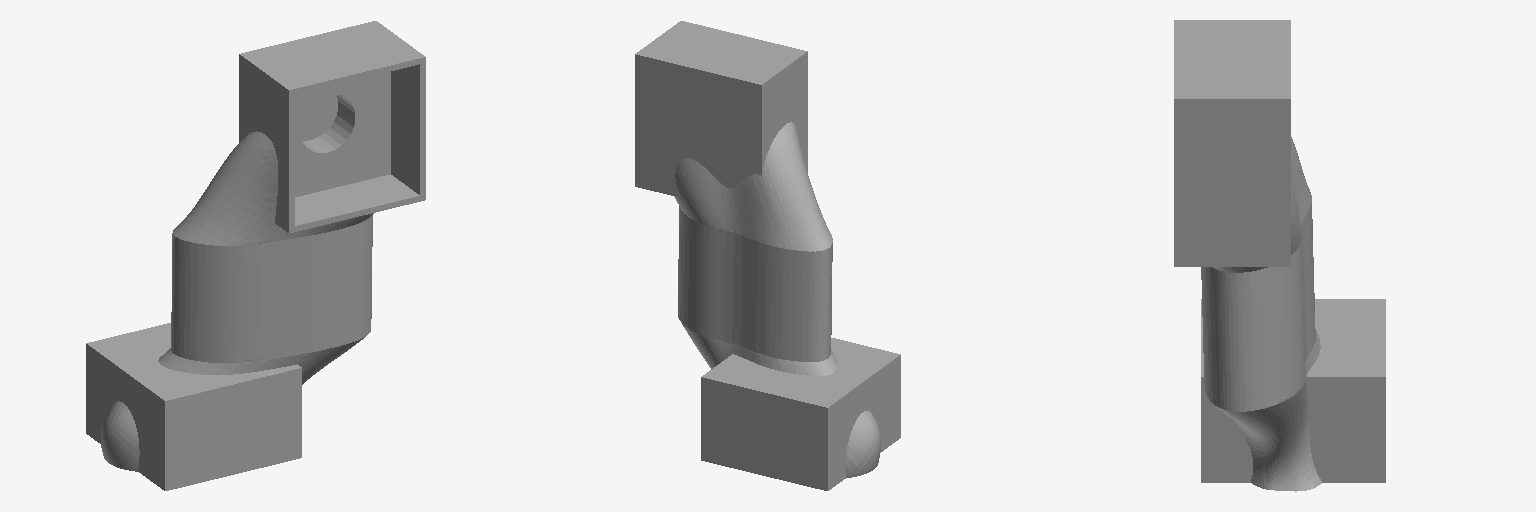
The robot description file, URDF, robot "FrogBot3_top-FrogBot3-x-8_bottom-FrogBot3-x-8":
<?xml version="1.0" ?>
<robot name="FrogBot3_top-FrogBot3-x-8_bottom-FrogBot3-x-8">

<material name="pla_5_percent_infill">
  <color rgba="0.700 0.700 0.700 1.000"/>
</material>

<link name="base_link">
  <inertial>
    <origin xyz="0 0 0" rpy="0 0 0"/>
    <mass value="1.5419899792307459"/>
    <inertia ixx="0.0054836076661745285" iyy="0.013703915460827342" izz="0.013742849788882953" ixy="5.961000823851627e-05" iyz="4.9944941207841843e-05" ixz="-0.0023657822822012154"/>
  </inertial>
  <visual>
    <origin xyz="0 0 0" rpy="0 0 0"/>
    <geometry>
      <mesh filename="simple_meshes/base_link.stl" scale="0.001 0.001 0.001"/>
    </geometry>
    <material name="pla_5_percent_infill"/>
  </visual>
  <collision>
    <origin xyz="0 0 0" rpy="0 0 0"/>
    <geometry>
      <mesh filename="simple_meshes/base_link.stl" scale="0.001 0.001 0.001"/>
    </geometry>
  </collision>
</link>

<link name="body_1_0_1">
  <inertial>
    <origin xyz="-0.065859 -0.113451 -0.001976" rpy="0 0 0"/>
    <mass value="0.05564796934521337"/>
    <inertia ixx="6.5836224945229e-05" iyy="8.403761047891145e-05" izz="3.0625960998279704e-05" ixy="3.8020194863741183e-06" iyz="5.45925674484552e-06" ixz="-2.057872433246802e-05"/>
  </inertial>
  <visual>
    <origin xyz="-0.065859 -0.113451 -0.001976" rpy="0 0 0"/>
    <geometry>
      <mesh filename="simple_meshes/body_1_0_1.stl" scale="0.001 0.001 0.001"/>
    </geometry>
    <material name="pla_5_percent_infill"/>
  </visual>
  <collision>
    <origin xyz="-0.065859 -0.113451 -0.001976" rpy="0 0 0"/>
    <geometry>
      <mesh filename="simple_meshes/body_1_0_1.stl" scale="0.001 0.001 0.001"/>
    </geometry>
  </collision>
</link>

<link name="body_1_1_1">
  <inertial>
    <origin xyz="0.083929 -0.113451 -0.010696" rpy="0 0 0"/>
    <mass value="0.08591098884425104"/>
    <inertia ixx="9.804670326154239e-05" iyy="0.00014699258473094496" izz="6.898786735200831e-05" ixy="7.039455739848771e-06" iyz="1.3495769246966668e-05" ixz="-3.4457566977377915e-05"/>
  </inertial>
  <visual>
    <origin xyz="0.083929 -0.113451 -0.010696" rpy="0 0 0"/>
    <geometry>
      <mesh filename="simple_meshes/body_1_1_1.stl" scale="0.001 0.001 0.001"/>
    </geometry>
    <material name="pla_5_percent_infill"/>
  </visual>
  <collision>
    <origin xyz="0.083929 -0.113451 -0.010696" rpy="0 0 0"/>
    <geometry>
      <mesh filename="simple_meshes/body_1_1_1.stl" scale="0.001 0.001 0.001"/>
    </geometry>
  </collision>
</link>

<link name="body_1_2_1">
  <inertial>
    <origin xyz="-0.060736 0.113451 -0.005366" rpy="0 0 0"/>
    <mass value="0.057758670438018606"/>
    <inertia ixx="7.189492376115012e-05" iyy="8.867266675629569e-05" izz="3.0164958120756187e-05" ixy="-3.791997283521286e-06" iyz="-7.766277827859981e-06" ixz="-2.142010944817754e-05"/>
  </inertial>
  <visual>
    <origin xyz="-0.060736 0.113451 -0.005366" rpy="0 0 0"/>
    <geometry>
      <mesh filename="simple_meshes/body_1_2_1.stl" scale="0.001 0.001 0.001"/>
    </geometry>
    <material name="pla_5_percent_infill"/>
  </visual>
  <collision>
    <origin xyz="-0.060736 0.113451 -0.005366" rpy="0 0 0"/>
    <geometry>
      <mesh filename="simple_meshes/body_1_2_1.stl" scale="0.001 0.001 0.001"/>
    </geometry>
  </collision>
</link>

<link name="body_1_3_1">
  <inertial>
    <origin xyz="0.093982 0.113451 -0.005431" rpy="0 0 0"/>
    <mass value="0.08907603462414063"/>
    <inertia ixx="9.245987078720062e-05" iyy="0.00013278470511056406" izz="6.308070584578338e-05" ixy="-5.405113899256773e-06" iyz="-1.2187544072497325e-05" ixz="-2.554482864688322e-05"/>
  </inertial>
  <visual>
    <origin xyz="0.093982 0.113451 -0.005431" rpy="0 0 0"/>
    <geometry>
      <mesh filename="simple_meshes/body_1_3_1.stl" scale="0.001 0.001 0.001"/>
    </geometry>
    <material name="pla_5_percent_infill"/>
  </visual>
  <collision>
    <origin xyz="0.093982 0.113451 -0.005431" rpy="0 0 0"/>
    <geometry>
      <mesh filename="simple_meshes/body_1_3_1.stl" scale="0.001 0.001 0.001"/>
    </geometry>
  </collision>
</link>

<link name="body_2_0_1">
  <inertial>
    <origin xyz="-0.026166 -0.164707 0.122895" rpy="0 0 0"/>
    <mass value="0.11666822220270685"/>
    <inertia ixx="0.0001408532731485227" iyy="0.0002702862367995676" izz="0.00021232104429767893" ixy="3.3064330777685374e-06" iyz="-5.086843345917472e-06" ixz="0.00010384002372624017"/>
  </inertial>
  <visual>
    <origin xyz="-0.026166 -0.164707 0.122895" rpy="0 0 0"/>
    <geometry>
      <mesh filename="simple_meshes/body_2_0_1.stl" scale="0.001 0.001 0.001"/>
    </geometry>
    <material name="pla_5_percent_infill"/>
  </visual>
  <collision>
    <origin xyz="-0.026166 -0.164707 0.122895" rpy="0 0 0"/>
    <geometry>
      <mesh filename="simple_meshes/body_2_0_1.stl" scale="0.001 0.001 0.001"/>
    </geometry>
  </collision>
</link>

<link name="body_2_1_1">
  <inertial>
    <origin xyz="0.127747 -0.174737 0.122895" rpy="0 0 0"/>
    <mass value="0.09265973011828019"/>
    <inertia ixx="9.987522574384216e-05" iyy="0.00015219404165151777" izz="0.00011026855347317241" ixy="-1.0284526946529107e-05" iyz="5.546956964549207e-06" ixz="5.775615041645485e-05"/>
  </inertial>
  <visual>
    <origin xyz="0.127747 -0.174737 0.122895" rpy="0 0 0"/>
    <geometry>
      <mesh filename="simple_meshes/body_2_1_1.stl" scale="0.001 0.001 0.001"/>
    </geometry>
    <material name="pla_5_percent_infill"/>
  </visual>
  <collision>
    <origin xyz="0.127747 -0.174737 0.122895" rpy="0 0 0"/>
    <geometry>
      <mesh filename="simple_meshes/body_2_1_1.stl" scale="0.001 0.001 0.001"/>
    </geometry>
  </collision>
</link>

<link name="body_2_2_1">
  <inertial>
    <origin xyz="-0.021708 0.167525 0.122895" rpy="0 0 0"/>
    <mass value="0.11450332207854122"/>
    <inertia ixx="0.00013835949162054224" iyy="0.0002657025387735835" izz="0.00020755811914872392" ixy="2.8295613783704213e-06" iyz="-2.1426722262470055e-06" ixz="0.00010272649961498483"/>
  </inertial>
  <visual>
    <origin xyz="-0.021708 0.167525 0.122895" rpy="0 0 0"/>
    <geometry>
      <mesh filename="simple_meshes/body_2_2_1.stl" scale="0.001 0.001 0.001"/>
    </geometry>
    <material name="pla_5_percent_infill"/>
  </visual>
  <collision>
    <origin xyz="-0.021708 0.167525 0.122895" rpy="0 0 0"/>
    <geometry>
      <mesh filename="simple_meshes/body_2_2_1.stl" scale="0.001 0.001 0.001"/>
    </geometry>
  </collision>
</link>

<link name="body_2_3_1">
  <inertial>
    <origin xyz="0.128136 0.172985 0.122895" rpy="0 0 0"/>
    <mass value="0.08762500115892546"/>
    <inertia ixx="9.83623069934136e-05" iyy="0.00014222371183687278" izz="0.00010712443867612982" ixy="8.457859211246982e-06" iyz="-6.993147784279015e-06" ixz="5.2715166949621715e-05"/>
  </inertial>
  <visual>
    <origin xyz="0.128136 0.172985 0.122895" rpy="0 0 0"/>
    <geometry>
      <mesh filename="simple_meshes/body_2_3_1.stl" scale="0.001 0.001 0.001"/>
    </geometry>
    <material name="pla_5_percent_infill"/>
  </visual>
  <collision>
    <origin xyz="0.128136 0.172985 0.122895" rpy="0 0 0"/>
    <geometry>
      <mesh filename="simple_meshes/body_2_3_1.stl" scale="0.001 0.001 0.001"/>
    </geometry>
  </collision>
</link>

<joint name="joint_1_0" type="revolute">
  <origin xyz="0.065859 0.113451 0.001976" rpy="0 0 0"/>
  <parent link="base_link"/>
  <child link="body_1_0_1"/>
  <axis xyz="1.0 0.0 0.0"/>
  <limit upper="1.2" lower="-1.2" effort="3.8" velocity="5.4"/>
</joint>
<transmission name="joint_1_0_tran">
  <type>transmission_interface/SimpleTransmission</type>
  <joint name="joint_1_0">
    <hardwareInterface>PositionJointInterface</hardwareInterface>
  </joint>
  <actuator name="joint_1_0_actr">
    <hardwareInterface>PositionJointInterface</hardwareInterface>
    <mechanicalReduction>1</mechanicalReduction>
  </actuator>
</transmission>

<joint name="joint_1_1" type="revolute">
  <origin xyz="-0.083929 0.113451 0.010696" rpy="0 0 0"/>
  <parent link="base_link"/>
  <child link="body_1_1_1"/>
  <axis xyz="1.0 0.0 0.0"/>
  <limit upper="1.2" lower="-1.2" effort="3.8" velocity="5.4"/>
</joint>
<transmission name="joint_1_1_tran">
  <type>transmission_interface/SimpleTransmission</type>
  <joint name="joint_1_1">
    <hardwareInterface>PositionJointInterface</hardwareInterface>
  </joint>
  <actuator name="joint_1_1_actr">
    <hardwareInterface>PositionJointInterface</hardwareInterface>
    <mechanicalReduction>1</mechanicalReduction>
  </actuator>
</transmission>

<joint name="joint_1_2" type="revolute">
  <origin xyz="0.060736 -0.113451 0.005366" rpy="0 0 0"/>
  <parent link="base_link"/>
  <child link="body_1_2_1"/>
  <axis xyz="1.0 0.0 0.0"/>
  <limit upper="1.2" lower="-1.2" effort="3.8" velocity="5.4"/>
</joint>
<transmission name="joint_1_2_tran">
  <type>transmission_interface/SimpleTransmission</type>
  <joint name="joint_1_2">
    <hardwareInterface>PositionJointInterface</hardwareInterface>
  </joint>
  <actuator name="joint_1_2_actr">
    <hardwareInterface>PositionJointInterface</hardwareInterface>
    <mechanicalReduction>1</mechanicalReduction>
  </actuator>
</transmission>

<joint name="joint_1_3" type="revolute">
  <origin xyz="-0.093982 -0.113451 0.005431" rpy="0 0 0"/>
  <parent link="base_link"/>
  <child link="body_1_3_1"/>
  <axis xyz="1.0 0.0 0.0"/>
  <limit upper="1.2" lower="-1.2" effort="3.8" velocity="5.4"/>
</joint>
<transmission name="joint_1_3_tran">
  <type>transmission_interface/SimpleTransmission</type>
  <joint name="joint_1_3">
    <hardwareInterface>PositionJointInterface</hardwareInterface>
  </joint>
  <actuator name="joint_1_3_actr">
    <hardwareInterface>PositionJointInterface</hardwareInterface>
    <mechanicalReduction>1</mechanicalReduction>
  </actuator>
</transmission>

<joint name="joint_2_0" type="revolute">
  <origin xyz="-0.039693 0.051256 -0.124871" rpy="0 0 0"/>
  <parent link="body_1_0_1"/>
  <child link="body_2_0_1"/>
  <axis xyz="1.0 0.0 0.0"/>
  <limit upper="1.2" lower="-1.2" effort="3.8" velocity="5.4"/>
</joint>
<transmission name="joint_2_0_tran">
  <type>transmission_interface/SimpleTransmission</type>
  <joint name="joint_2_0">
    <hardwareInterface>PositionJointInterface</hardwareInterface>
  </joint>
  <actuator name="joint_2_0_actr">
    <hardwareInterface>PositionJointInterface</hardwareInterface>
    <mechanicalReduction>1</mechanicalReduction>
  </actuator>
</transmission>

<joint name="joint_2_1" type="revolute">
  <origin xyz="-0.043818 0.061286 -0.133591" rpy="0 0 0"/>
  <parent link="body_1_1_1"/>
  <child link="body_2_1_1"/>
  <axis xyz="1.0 0.0 0.0"/>
  <limit upper="1.2" lower="-1.2" effort="3.8" velocity="5.4"/>
</joint>
<transmission name="joint_2_1_tran">
  <type>transmission_interface/SimpleTransmission</type>
  <joint name="joint_2_1">
    <hardwareInterface>PositionJointInterface</hardwareInterface>
  </joint>
  <actuator name="joint_2_1_actr">
    <hardwareInterface>PositionJointInterface</hardwareInterface>
    <mechanicalReduction>1</mechanicalReduction>
  </actuator>
</transmission>

<joint name="joint_2_2" type="revolute">
  <origin xyz="-0.039028 -0.054074 -0.128261" rpy="0 0 0"/>
  <parent link="body_1_2_1"/>
  <child link="body_2_2_1"/>
  <axis xyz="1.0 0.0 0.0"/>
  <limit upper="1.2" lower="-1.2" effort="3.8" velocity="5.4"/>
</joint>
<transmission name="joint_2_2_tran">
  <type>transmission_interface/SimpleTransmission</type>
  <joint name="joint_2_2">
    <hardwareInterface>PositionJointInterface</hardwareInterface>
  </joint>
  <actuator name="joint_2_2_actr">
    <hardwareInterface>PositionJointInterface</hardwareInterface>
    <mechanicalReduction>1</mechanicalReduction>
  </actuator>
</transmission>

<joint name="joint_2_3" type="revolute">
  <origin xyz="-0.034154 -0.059534 -0.128326" rpy="0 0 0"/>
  <parent link="body_1_3_1"/>
  <child link="body_2_3_1"/>
  <axis xyz="1.0 0.0 0.0"/>
  <limit upper="1.2" lower="-1.2" effort="3.8" velocity="5.4"/>
</joint>
<transmission name="joint_2_3_tran">
  <type>transmission_interface/SimpleTransmission</type>
  <joint name="joint_2_3">
    <hardwareInterface>PositionJointInterface</hardwareInterface>
  </joint>
  <actuator name="joint_2_3_actr">
    <hardwareInterface>PositionJointInterface</hardwareInterface>
    <mechanicalReduction>1</mechanicalReduction>
  </actuator>
</transmission>

</robot>

--- Render facts (derived) ---
3 views of the same robot in one strip: view 1: azimuth 30°, elevation 25°; view 2: azimuth 150°, elevation 25°; view 3: azimuth 270°, elevation 25° (orthographic).
Robot: FrogBot3_top-FrogBot3-x-8_bottom-FrogBot3-x-8 — 9 links, 8 joints (8 revolute); root link base_link; default pose: every joint at zero.
Visible links, largest first — view 1: body_1_0_1; view 2: body_1_0_1; view 3: body_1_0_1.
Boxes of the visible links, x1=… form: body_1_0_1: x1=86, y1=21, x2=425, y2=490; body_1_0_1: x1=635, y1=21, x2=900, y2=490; body_1_0_1: x1=1174, y1=20, x2=1385, y2=491.
Bounding box of the posed robot: 0.0938 × 0.0555 × 0.1291 m (x, y, z).
Meshes: 9 distinct files referenced, 1 mesh visuals loaded (1 binary STL); not drawn: 8 (reference not matched to a file when rendering).